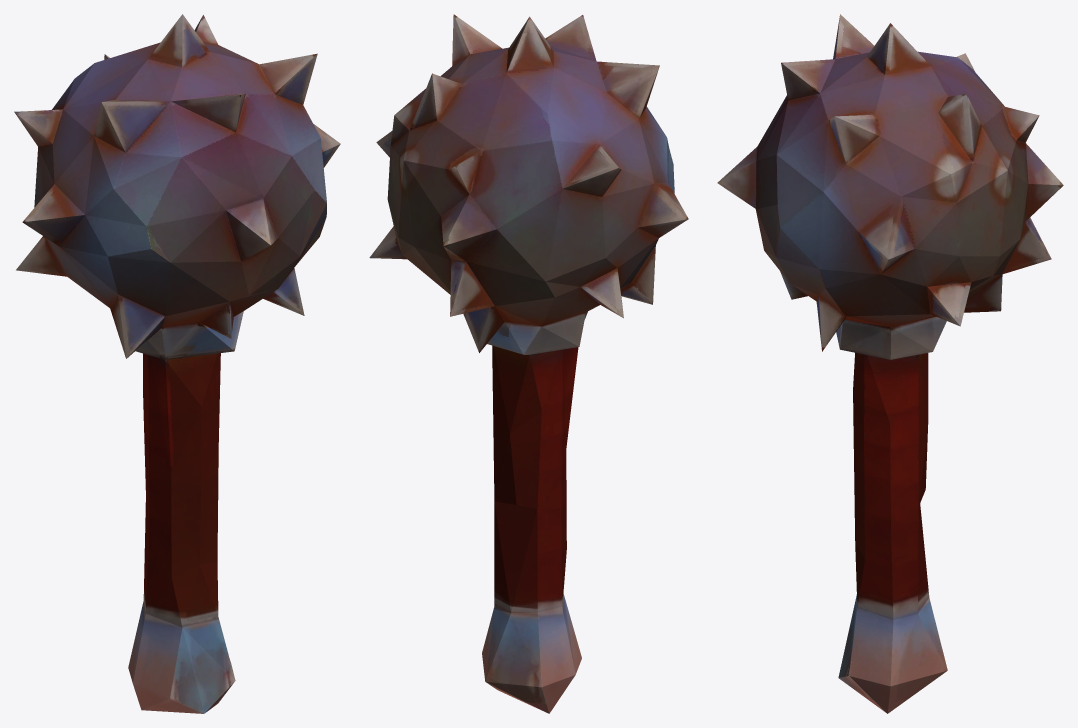
File: crystal_mace_weapon_1.glb
3 renders of one model, left to right at view 1: azimuth 30°, elevation 25°; view 2: azimuth 150°, elevation 25°; view 3: azimuth 270°, elevation 25°, orthographic. The views are drawn at different scales.
Visible parts, largest first — view 1: TexturedMesh_.obj; view 2: TexturedMesh_.obj; view 3: TexturedMesh_.obj.
Part boxes in pixels (<box>): TexturedMesh_.obj: <box>14,14,340,713</box>; TexturedMesh_.obj: <box>369,14,688,713</box>; TexturedMesh_.obj: <box>717,14,1063,713</box>.
Size of the model in its own units: 0.9524 by 1.99 by 0.9263.
1 material, 1 textured.
